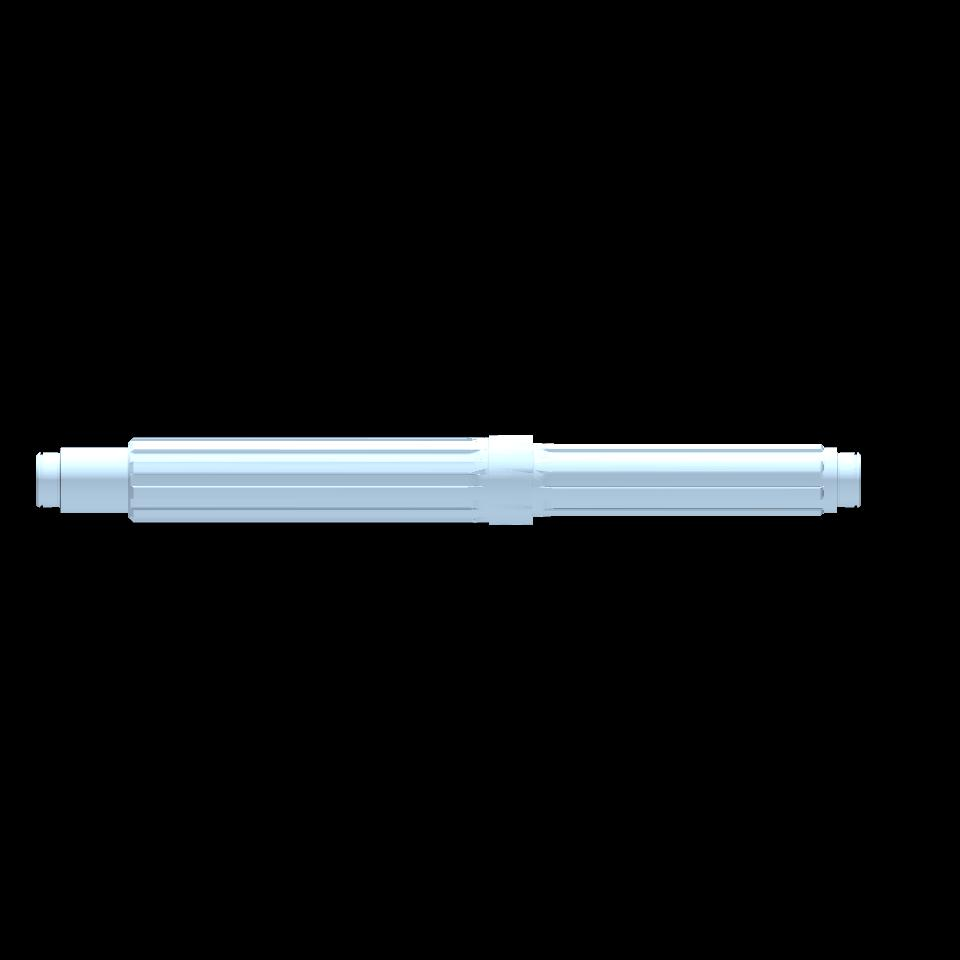Straight: (133, 438, 473, 522), (550, 443, 821, 517)
